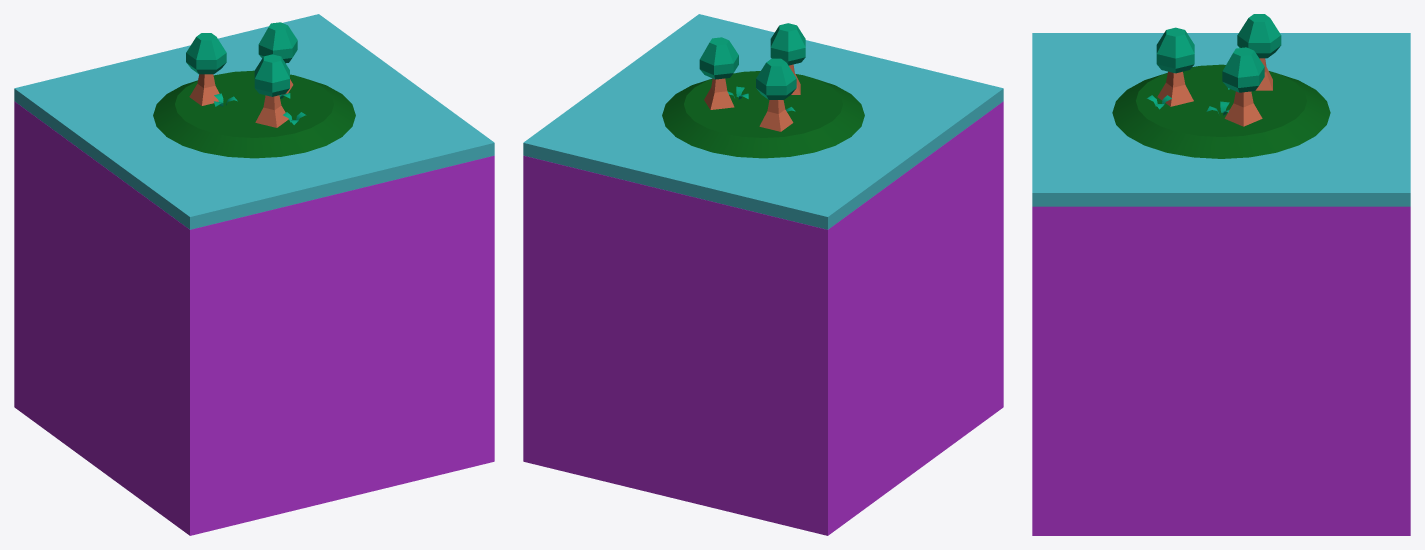
The model's file is Isla3.obj.
3 views of the same model, side by side, from view 1: azimuth 30°, elevation 25°; view 2: azimuth 150°, elevation 25°; view 3: azimuth 270°, elevation 25° (orthographic). The views are drawn at different scales.
Visible parts, largest first — view 1: mergedBlocks; view 2: mergedBlocks; view 3: mergedBlocks.
Boxes of the visible parts, left/top/right/bottom form: mergedBlocks: left=14, top=14, right=494, bottom=535; mergedBlocks: left=523, top=14, right=1003, bottom=535; mergedBlocks: left=1032, top=14, right=1410, bottom=535.
Size of the model in its own units: 1 by 1.23 by 1.
